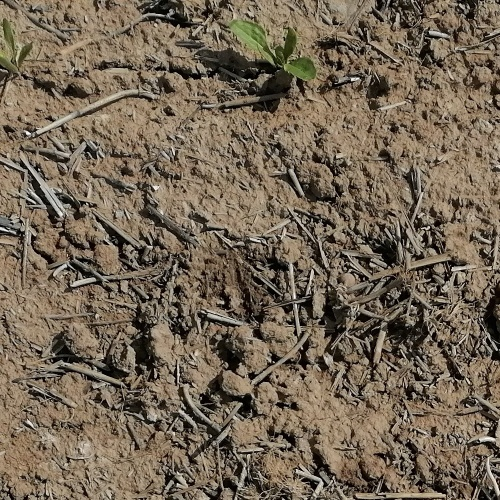beet: (231, 20, 316, 81), (0, 17, 30, 72)
